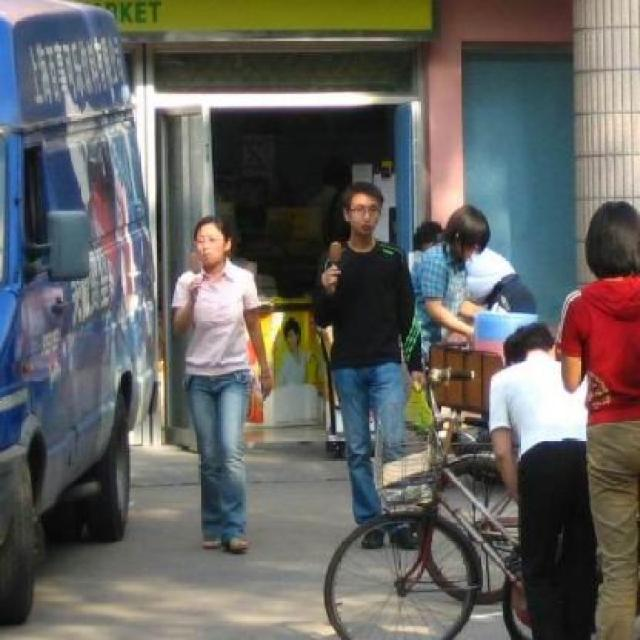sem_oculos: (192, 230, 232, 251), (347, 202, 384, 218)
